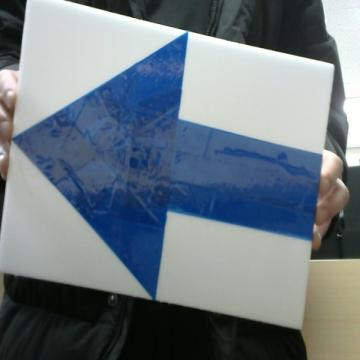blue_left: (13, 32, 321, 298)
